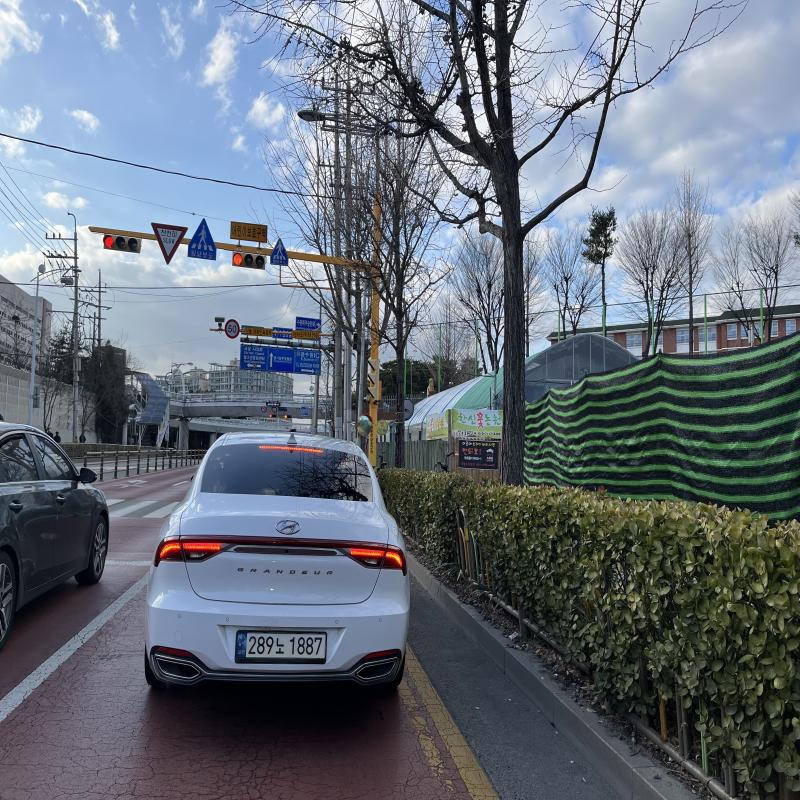red: (233, 251, 244, 267), (104, 235, 115, 250)
